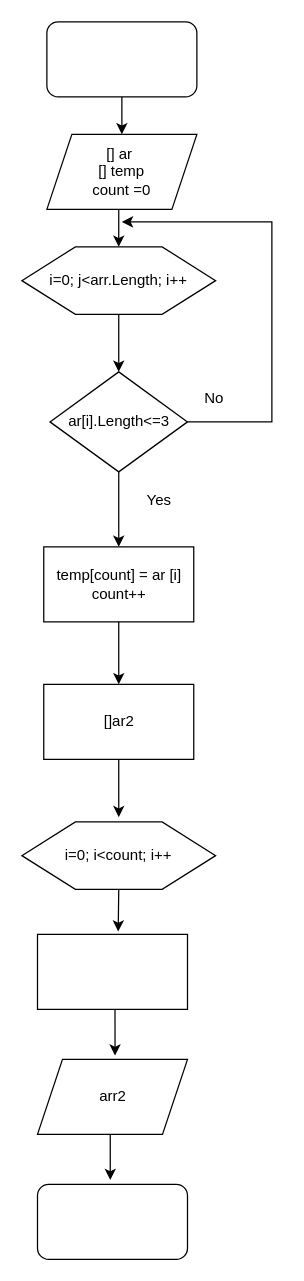
Some shapes in this 304 by 1281 pixel diagram are drawn without their labels. The box of each missing label's shape, as (x1, y1, x2, y2) in pixels:
arr2[i] = temp[i]: (36, 933, 188, 1009)
End: (36, 1183, 188, 1259)
Start: (46, 21, 197, 97)
